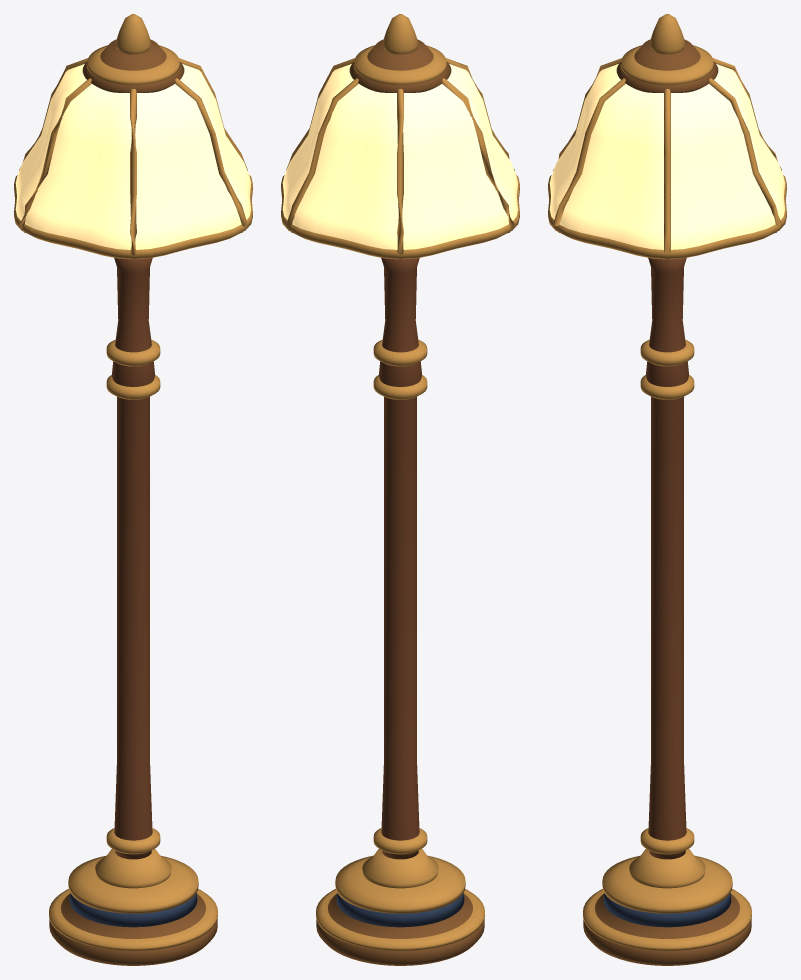
The model's file is floor-lamp.glb.
3 views of the same model, side by side, from view 1: azimuth 30°, elevation 25°; view 2: azimuth 150°, elevation 25°; view 3: azimuth 270°, elevation 25° (orthographic).
Visible parts, largest first — view 1: Shade | scalloped ivory glass, Stem | turned walnut, Base | stepped bronze, Base | upper brass rim, Base | brass edging, Shade | flared brass bottom rim, Shade | brass cap, Stem | lower mount, Base | plain navy inset, Shade | cap highlight, Shade | finial, Shade | curved brass rib 04 (+5 smaller); view 2: Shade | scalloped ivory glass, Stem | turned walnut, Base | stepped bronze, Base | upper brass rim, Base | brass edging, Shade | flared brass bottom rim, Shade | brass cap, Stem | lower mount, Base | plain navy inset, Shade | cap highlight, Shade | curved brass rib 02, Shade | finial (+5 smaller); view 3: Shade | scalloped ivory glass, Stem | turned walnut, Base | stepped bronze, Base | upper brass rim, Base | brass edging, Shade | flared brass bottom rim, Shade | brass cap, Stem | lower mount, Base | plain navy inset, Shade | cap highlight, Shade | curved brass rib 00, Shade | finial (+5 smaller).
Boxes of the visible parts, x1,y1,x2,y2 form: Shade | scalloped ivory glass: [15, 64, 251, 249]; Stem | turned walnut: [112, 257, 154, 859]; Base | stepped bronze: [49, 893, 217, 965]; Base | upper brass rim: [68, 855, 198, 913]; Base | brass edging: [49, 889, 217, 950]; Shade | flared brass bottom rim: [14, 175, 252, 259]; Shade | brass cap: [82, 39, 184, 92]; Stem | lower mount: [95, 848, 171, 888]; Base | plain navy inset: [69, 893, 197, 927]; Shade | cap highlight: [86, 45, 180, 84]; Shade | finial: [115, 14, 151, 54]; Shade | curved brass rib 04: [130, 89, 136, 259]; Shade | scalloped ivory glass: [282, 64, 518, 249]; Stem | turned walnut: [379, 257, 421, 859]; Base | stepped bronze: [316, 893, 484, 965]; Base | upper brass rim: [335, 855, 465, 913]; Base | brass edging: [316, 889, 484, 950]; Shade | flared brass bottom rim: [281, 175, 519, 259]; Shade | brass cap: [349, 39, 451, 92]; Stem | lower mount: [362, 848, 438, 888]; Base | plain navy inset: [336, 893, 464, 927]; Shade | cap highlight: [353, 45, 447, 84]; Shade | curved brass rib 02: [397, 89, 403, 259]; Shade | finial: [382, 14, 418, 54]; Shade | scalloped ivory glass: [549, 64, 785, 249]; Stem | turned walnut: [646, 257, 688, 859]; Base | stepped bronze: [583, 893, 751, 965]; Base | upper brass rim: [602, 855, 732, 913]; Base | brass edging: [583, 889, 751, 950]; Shade | flared brass bottom rim: [548, 175, 786, 259]; Shade | brass cap: [616, 39, 718, 92]; Stem | lower mount: [629, 848, 705, 888]; Base | plain navy inset: [603, 893, 731, 927]; Shade | cap highlight: [620, 45, 714, 84]; Shade | curved brass rib 00: [664, 89, 670, 259]; Shade | finial: [649, 14, 685, 54].
Size of the model in its own units: 0.7238 by 2.78 by 0.6559.
